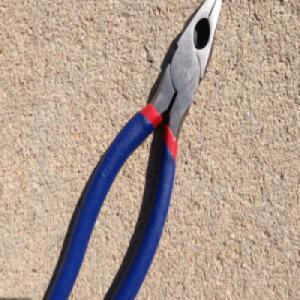Pliers: (44, 0, 222, 300)
